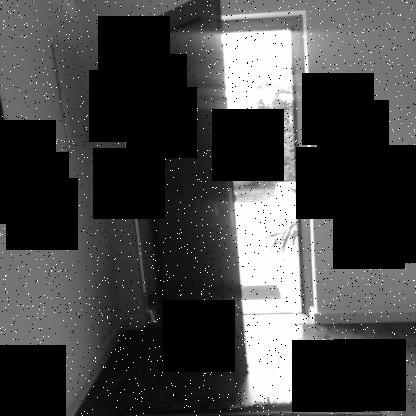Porte: (102, 1, 314, 375)
